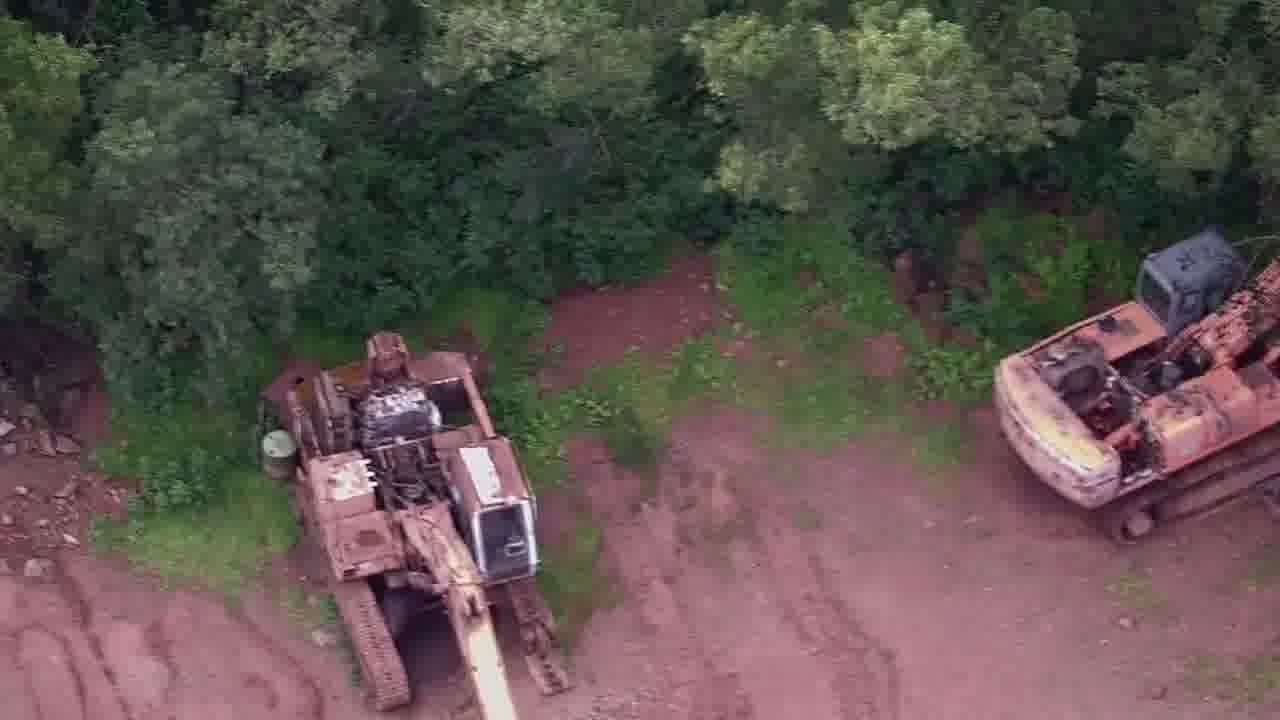HMV: (265, 332, 560, 719), (990, 209, 1280, 541)
